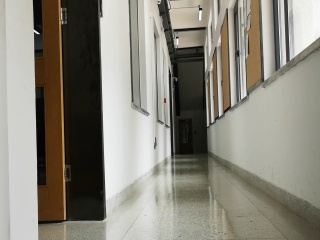room: (31, 2, 108, 228)
